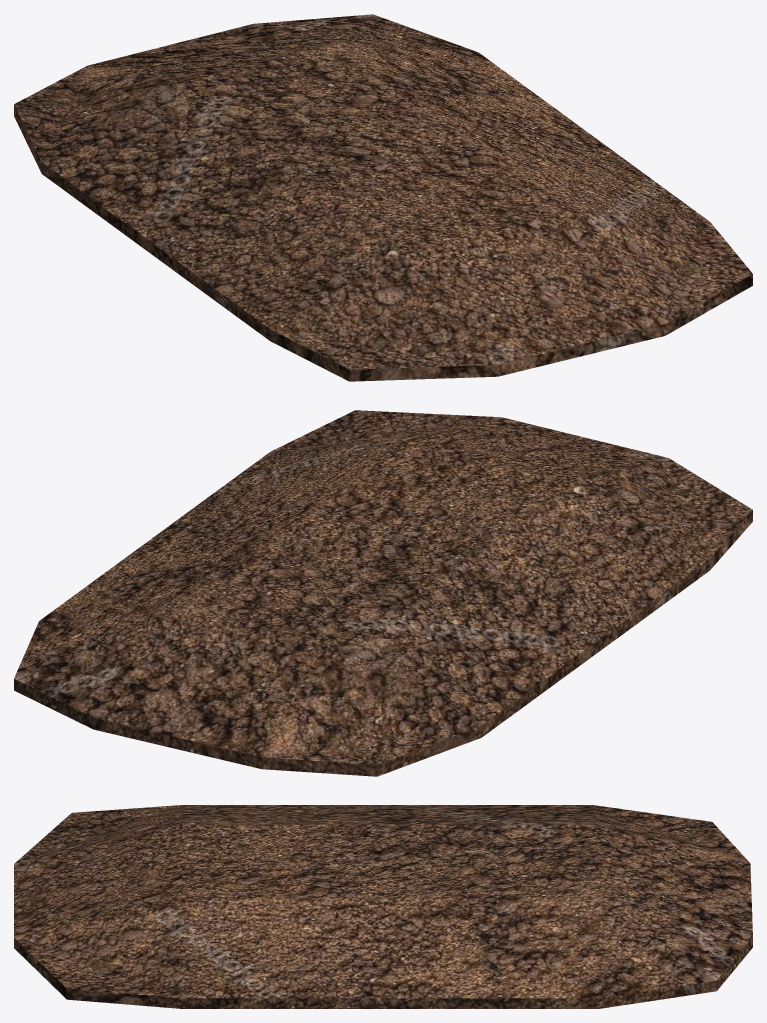
Rendered from ROOM_ROOF.fbx.
3 views of the same model, one above another, from view 1: azimuth 30°, elevation 25°; view 2: azimuth 150°, elevation 25°; view 3: azimuth 270°, elevation 25° (orthographic). The views are drawn at different scales.
Visible parts, largest first — view 1: Cube.002; view 2: Cube.002; view 3: Cube.002.
Boxes of the visible parts, x1=… form: Cube.002: x1=14, y1=14, x2=752, y2=381; Cube.002: x1=14, y1=410, x2=752, y2=776; Cube.002: x1=14, y1=805, x2=752, y2=1008.
Size of the model in its own units: 2807 by 338 by 4535.
